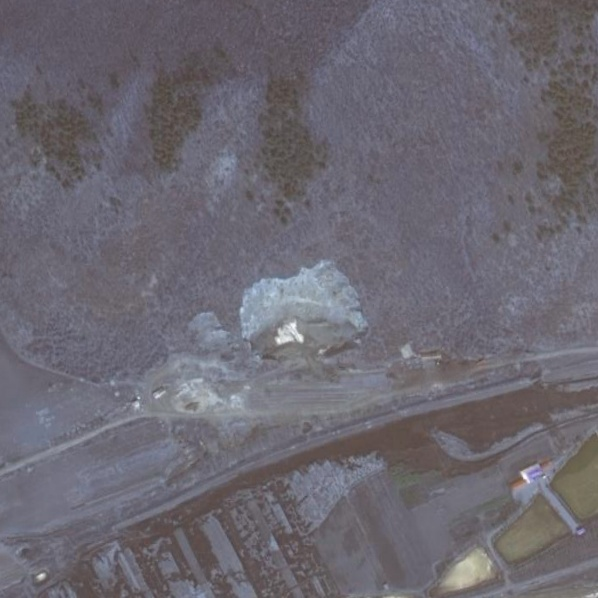slope: (238, 258, 363, 359)
